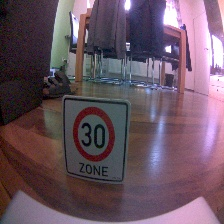dreisiger_zone: (60, 95, 130, 186)
